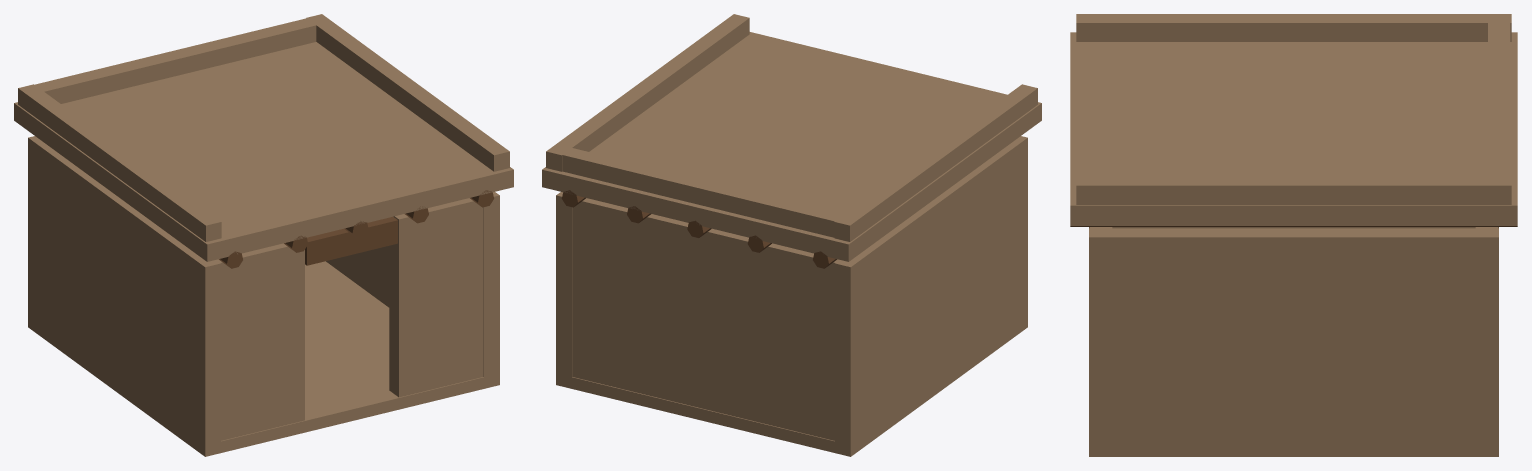
File: earthen_household.glb
3 views of the same model, side by side, from view 1: azimuth 30°, elevation 25°; view 2: azimuth 150°, elevation 25°; view 3: azimuth 270°, elevation 25° (orthographic). The views are drawn at different scales.
Parts seen in each view (by area): view 1: earthen_household; view 2: earthen_household; view 3: earthen_household.
Boxes of the visible parts, bbox=[...] form: earthen_household: bbox=[14, 14, 513, 456]; earthen_household: bbox=[542, 14, 1041, 456]; earthen_household: bbox=[1070, 14, 1517, 456].
Size of the model in its own units: 3.3 by 2.43 by 3.6.
